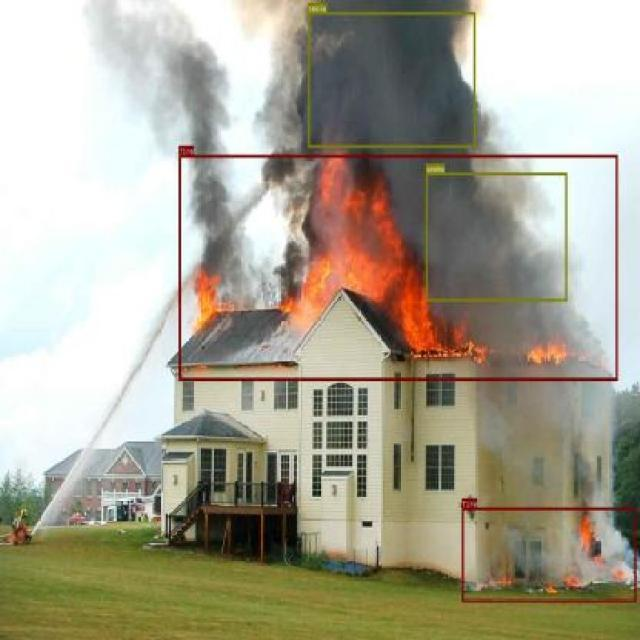Fire: (178, 154, 617, 380), (462, 507, 636, 602)
Smoke: (67, 0, 309, 150), (308, 11, 476, 147), (425, 172, 567, 302)
